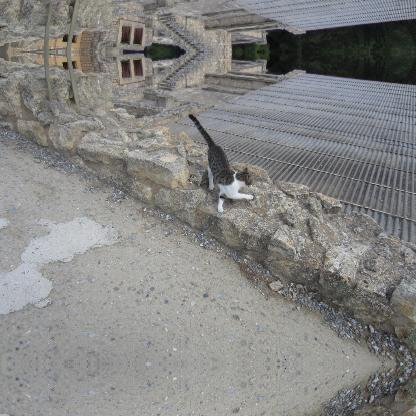Cat: (188, 115, 256, 212)
